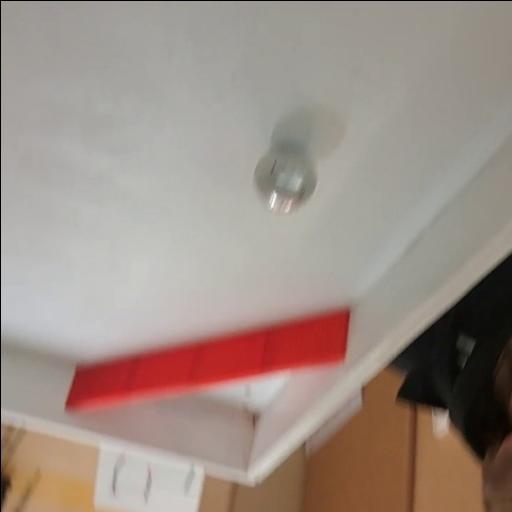alive: (248, 143, 318, 216)
